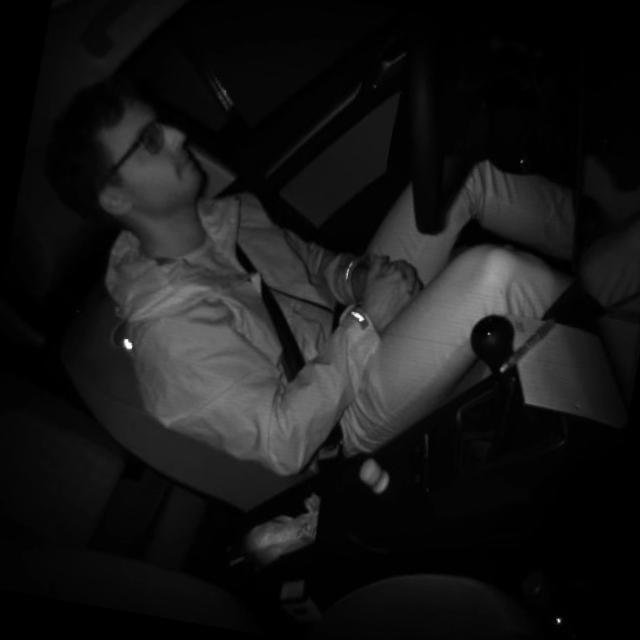pen: (496, 304, 560, 382)
